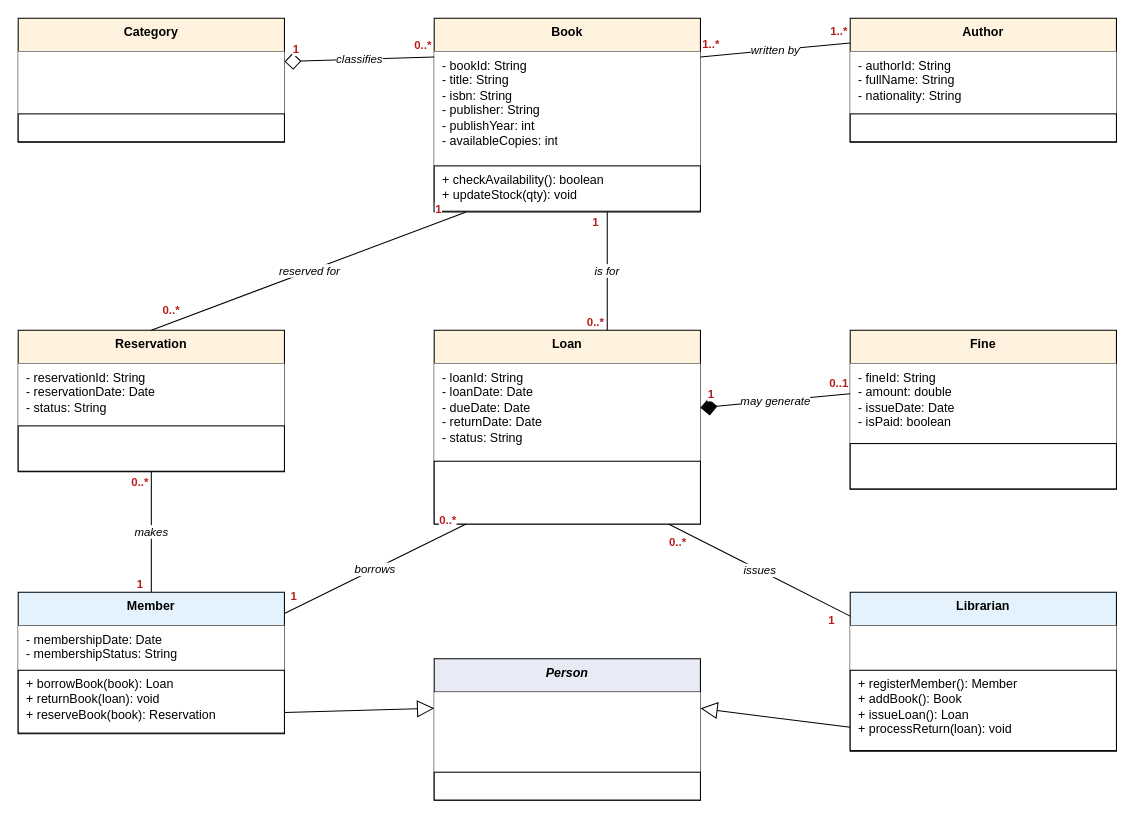
Some shapes in this 1135 by 822 pixel diagram are drawn without their labels. The centre of each missing label's shape, as x and y in pixels:
"+ calculateAmount(): double + pay(): void" goes at point 982,466.
"+ calculateDueDate(): Date + markReturned(): void + isOverdue(): boolean" goes at point 566,492.
"+ confirm(): void + cancel(): void" goes at point 150,448.
"+ getBooks(): List" goes at point 982,127.
"+ listBooks(): List" goes at point 150,127.
"+ updateContact(): void" goes at point 566,785.
"- categoryId: String - name: String - description: String" goes at point 151,82.
"- employeeId: String - hireDate: Date" goes at point 983,647.
"- personId: String - fullName: String - email: String - phone: String" goes at point 567,732.
